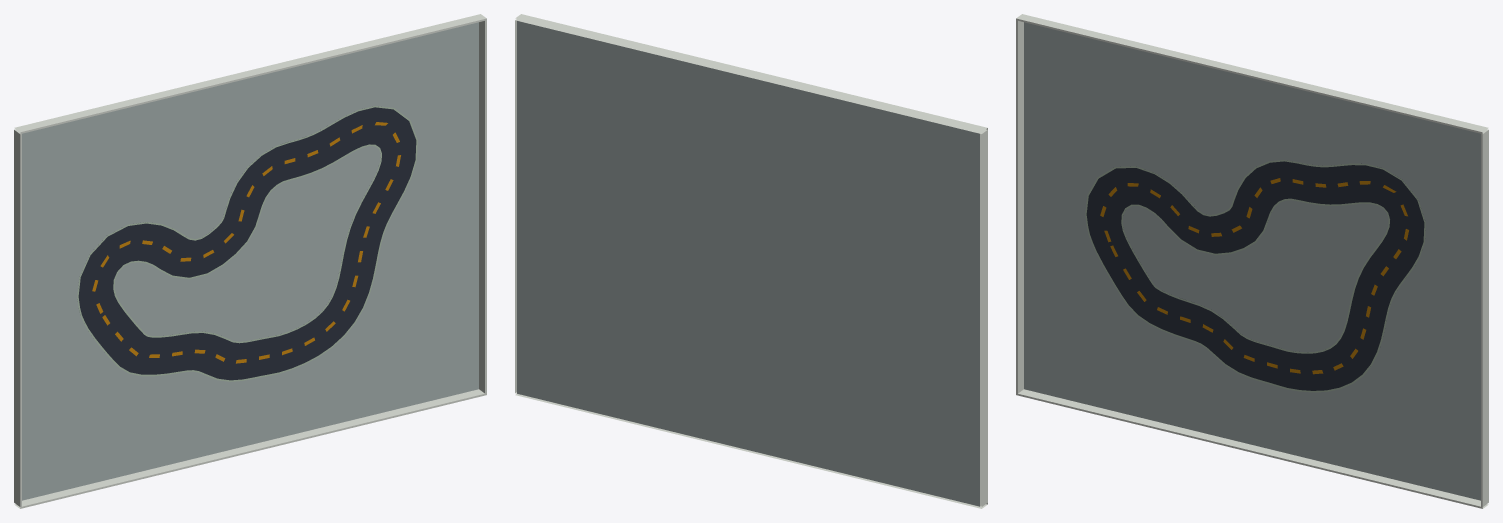
Rendered from track.obj.
The picture shows the model from 3 angles, left to right: view 1: azimuth 30°, elevation 25°; view 2: azimuth 150°, elevation 25°; view 3: azimuth 330°, elevation 25°; orthographic projection.
Bounding box in the file's own units: 13.22 × 10.19 × 0.3.
